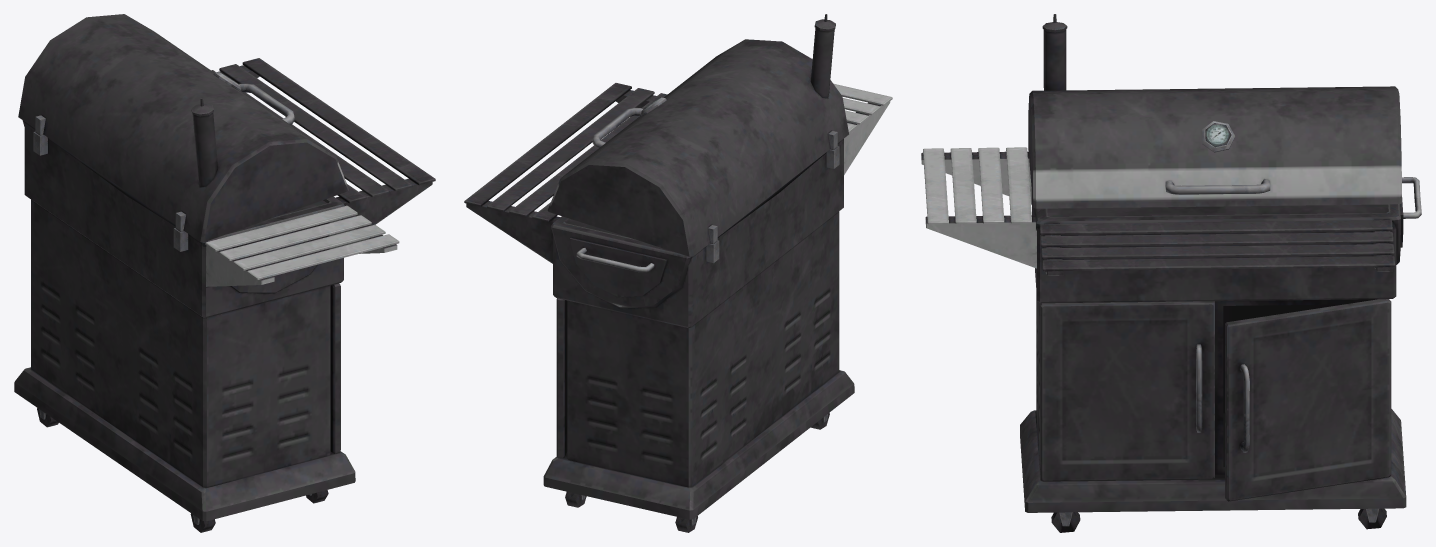
File: Hotel_BarbequeGrill01.fbx
The picture shows the model from 3 angles, left to right: view 1: azimuth 30°, elevation 25°; view 2: azimuth 150°, elevation 25°; view 3: azimuth 270°, elevation 25°; orthographic projection. The views are drawn at different scales.
Visible parts, largest first — view 1: ItemBox_BarbequeGrill_01_0_1; view 2: ItemBox_BarbequeGrill_01_0_1; view 3: ItemBox_BarbequeGrill_01_0_1.
Part boxes in pixels (left/top/right/bottom): ItemBox_BarbequeGrill_01_0_1: left=14, top=14, right=435, bottom=532; ItemBox_BarbequeGrill_01_0_1: left=464, top=14, right=892, bottom=532; ItemBox_BarbequeGrill_01_0_1: left=921, top=14, right=1421, bottom=532.
Size of the model in its own units: 105 by 172 by 171.
Materials: 1 (1 with a texture image).
